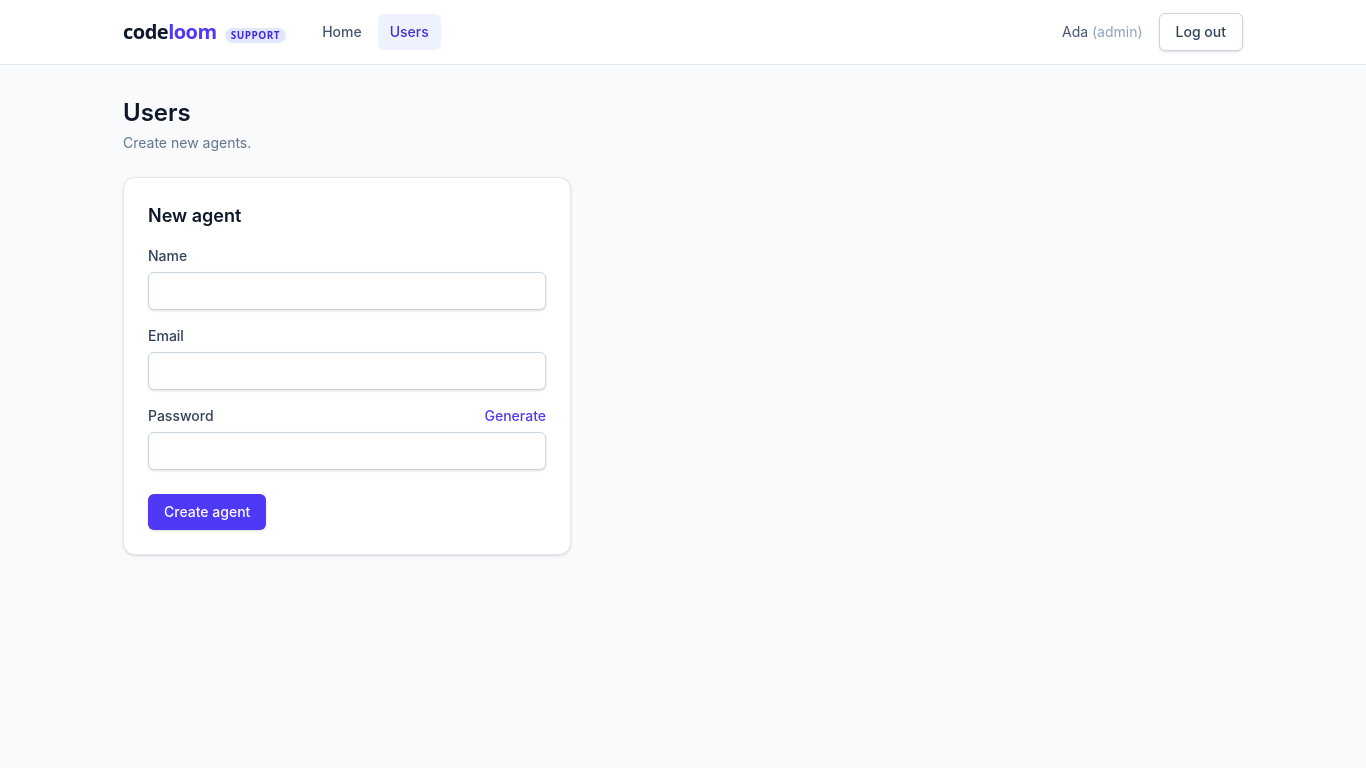
Test: UsersPage › shows the duplicate-email error under the email field
Step 1. Type "Ada" into the field labelled "Name" → (347, 291), box [148,272,546,310]
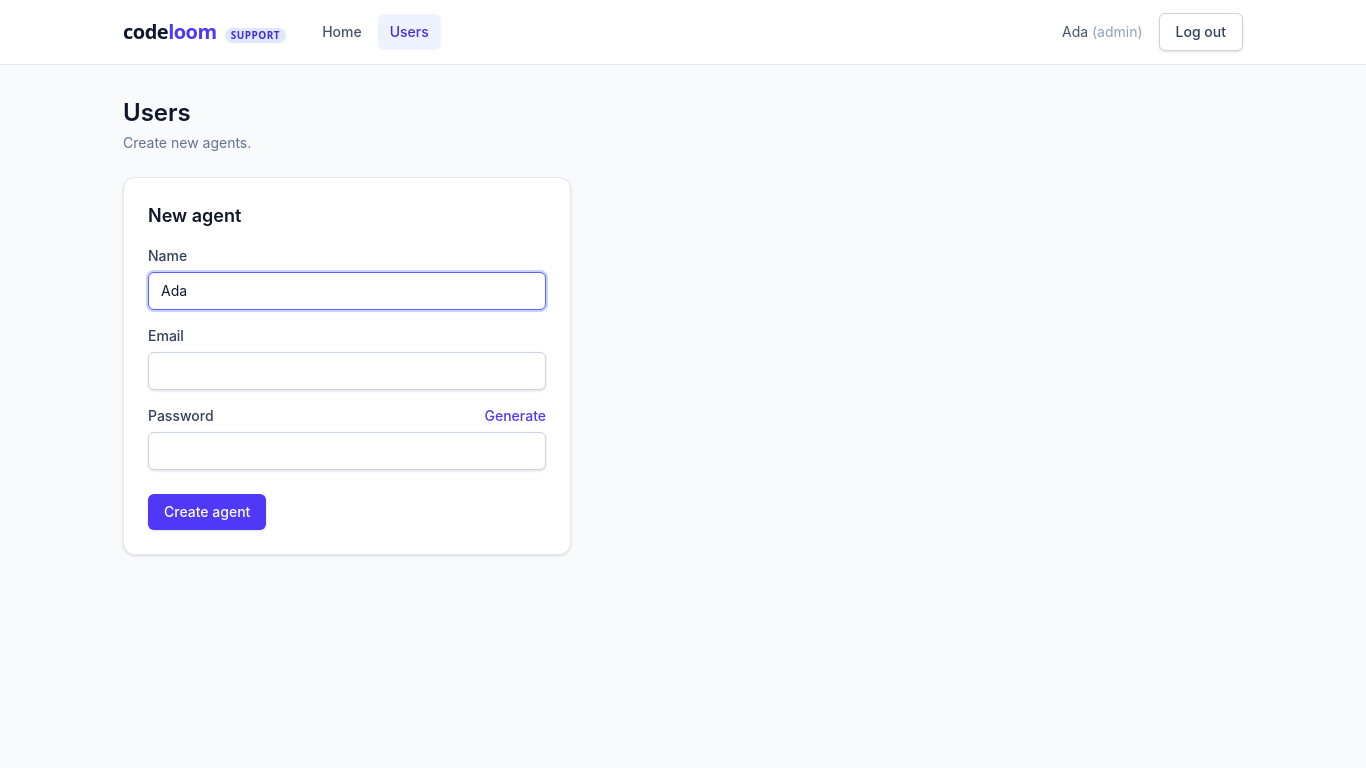
Step 2. Type "ada@example.com" into the field labelled "Email" → (347, 371), box [148,352,546,390]
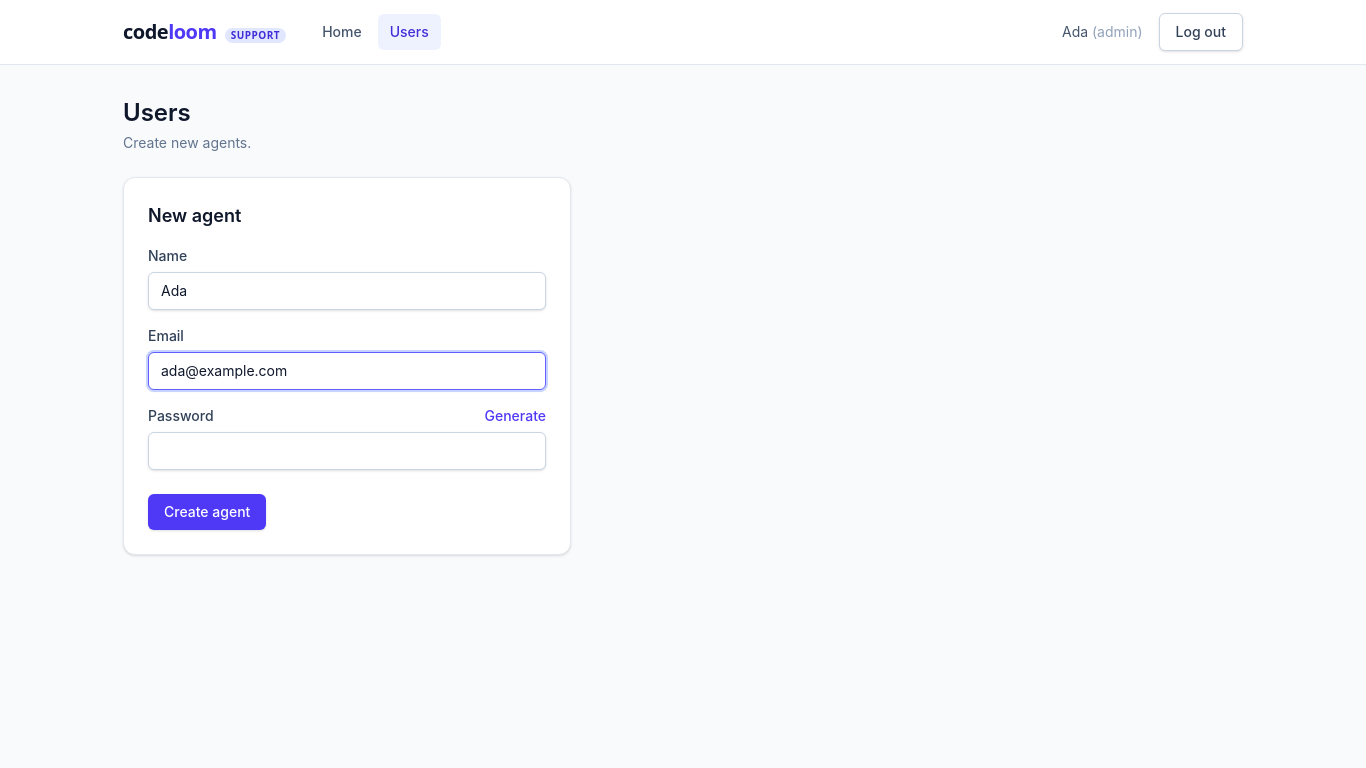
Step 3. Type "secret123" into the field labelled "Password" → (347, 451), box [148,432,546,470]
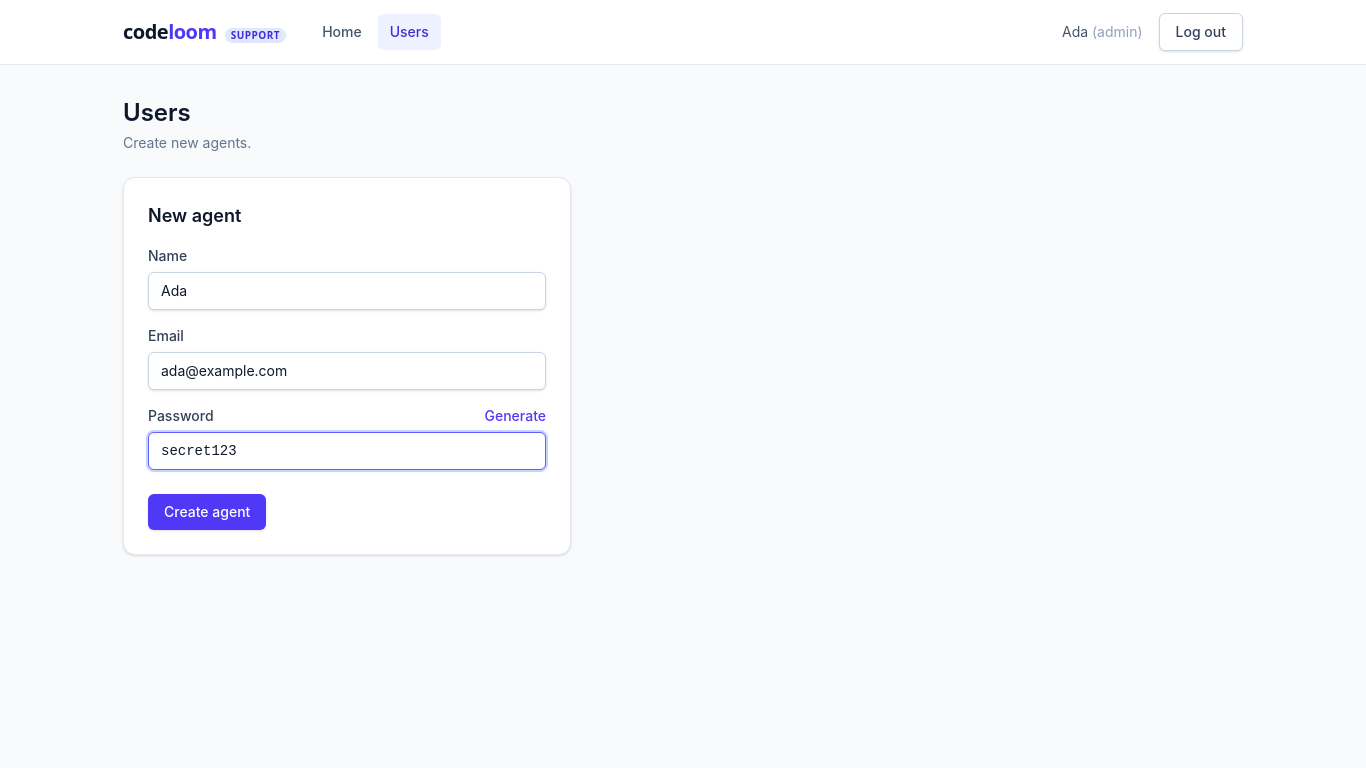
Step 4. Click the button "Create agent" → (207, 512), box [148,494,266,530]
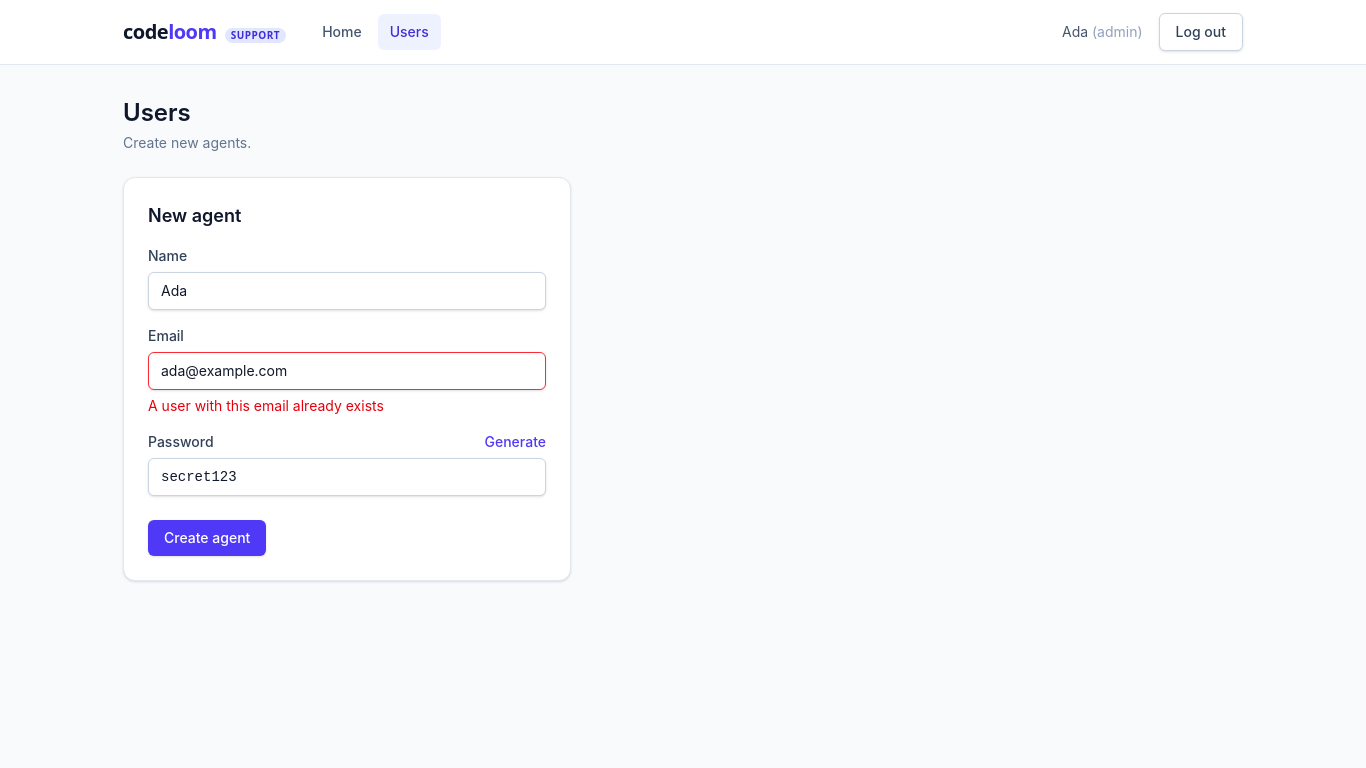
Check: the text "A user with this email already exists" is shown, box [148,397,384,414]
